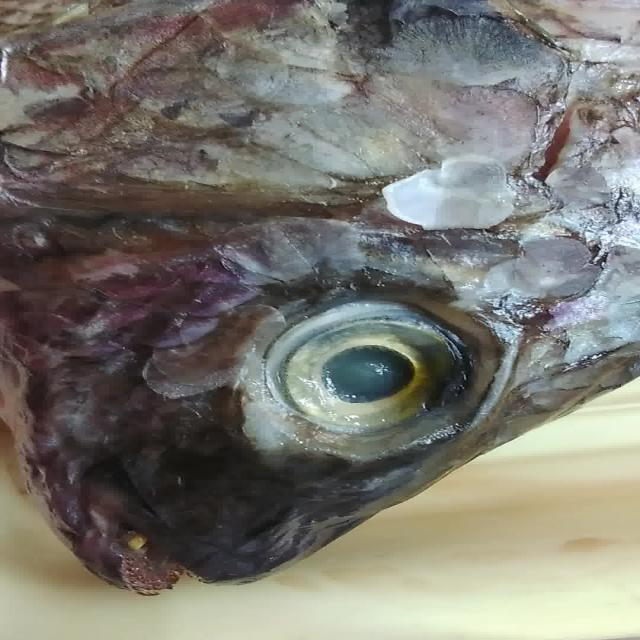Non-Fresh: (241, 278, 521, 478)
